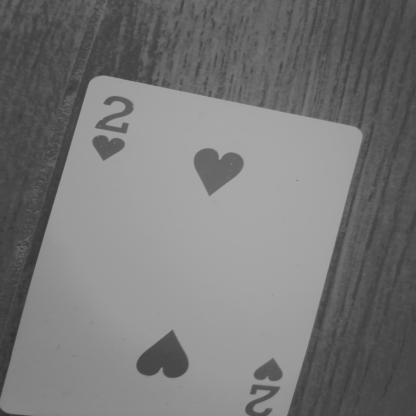2H: (88, 92, 154, 176), (235, 333, 294, 416)
